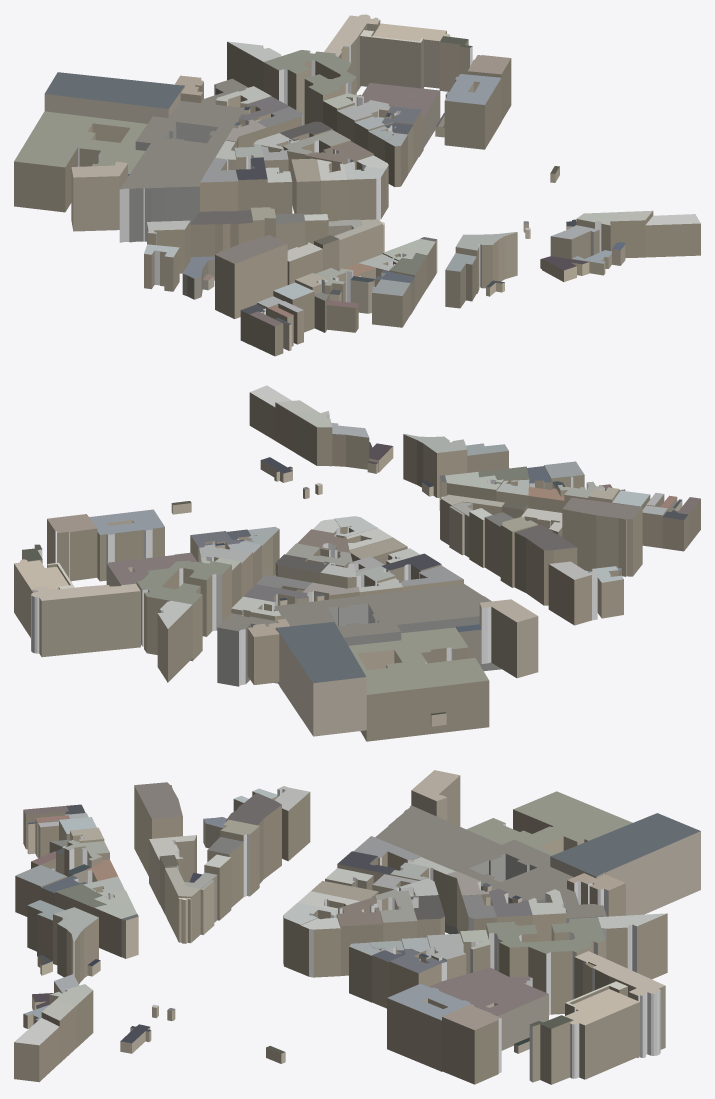
3 views of the same model, one above another, from view 1: azimuth 30°, elevation 25°; view 2: azimuth 150°, elevation 25°; view 3: azimuth 270°, elevation 25° (orthographic). The views are drawn at different scales.
Parts seen in each view (by area): view 1: tuile; view 2: tuile; view 3: tuile.
Part boxes in pixels (left/top/right/bottom): tuile: left=14, top=14, right=700, bottom=356; tuile: left=14, top=385, right=700, bottom=741; tuile: left=14, top=770, right=700, bottom=1084.
Size of the model in its own units: 260 by 36.65 by 292.
